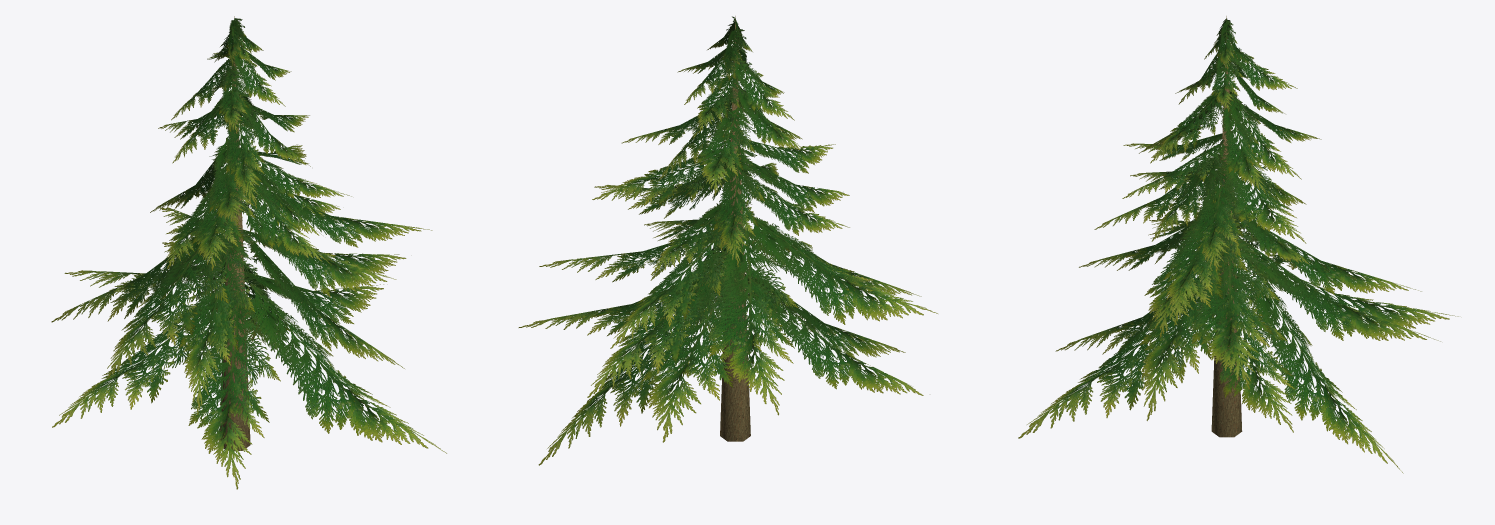
3 renders of one model, left to right at view 1: azimuth 30°, elevation 25°; view 2: azimuth 150°, elevation 25°; view 3: azimuth 270°, elevation 25°, orthographic. The views are drawn at different scales.
Parts seen in each view (by area): view 1: Tree.001; view 2: Tree.001; view 3: Tree.001.
Part boxes in pixels (<box>): Tree.001: <box>51,16,446,489</box>; Tree.001: <box>518,16,937,465</box>; Tree.001: <box>1018,16,1458,473</box>.
Bounding box in the file's own units: 3.65 × 3.85 × 3.96.
Materials: 1 (1 with a texture image).
